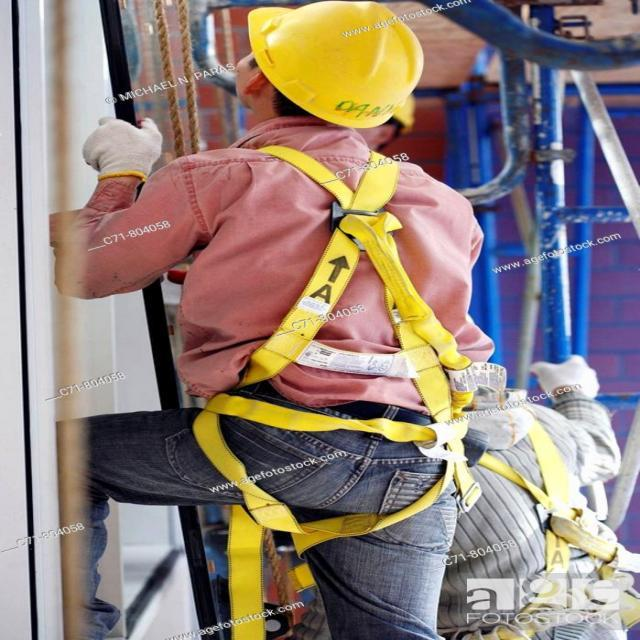belt: (208, 140, 496, 386)
